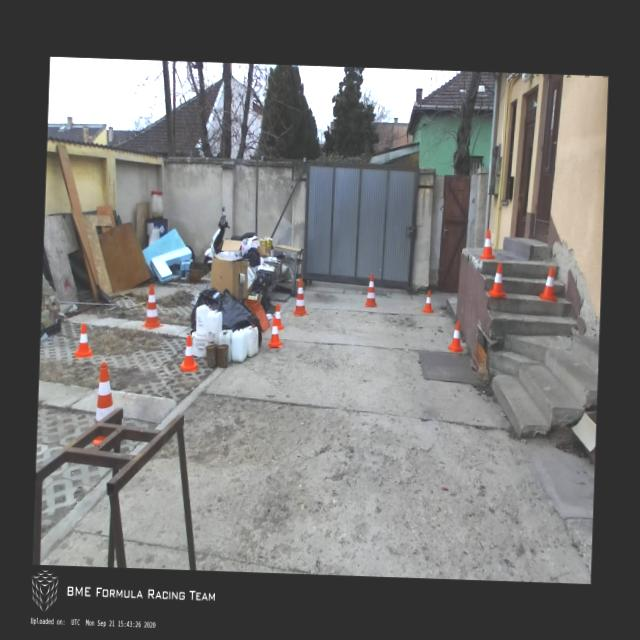large_orange_cone: (92, 362, 115, 446), (141, 284, 164, 329), (292, 278, 310, 316), (364, 274, 378, 307)
orange_cone: (487, 262, 507, 298), (180, 334, 198, 372), (74, 322, 92, 358), (539, 267, 558, 301), (446, 320, 464, 352), (480, 230, 496, 258), (268, 318, 282, 348), (270, 304, 284, 329), (422, 290, 434, 312)
